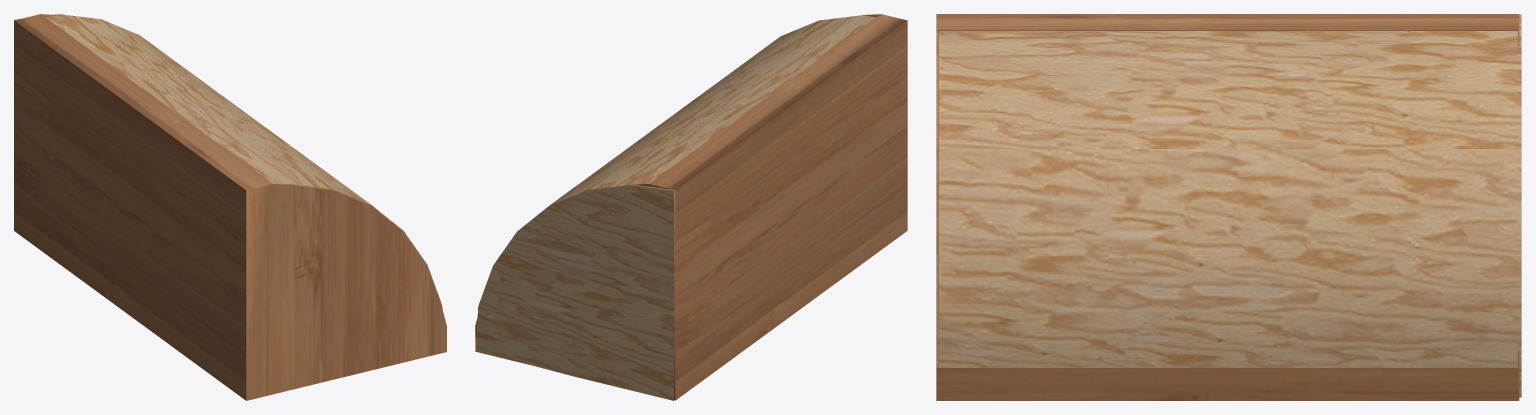
The model's file is Storage01.FBX.
3 renders of one model, left to right at view 1: azimuth 30°, elevation 25°; view 2: azimuth 150°, elevation 25°; view 3: azimuth 270°, elevation 25°, orthographic. The views are drawn at different scales.
Visible parts, largest first — view 1: Cylinder007, LowPoly001; view 2: Cylinder007, LowPoly001; view 3: LowPoly001, Cylinder007.
Boxes of the visible parts, left/top/right/bottom form: Cylinder007: left=14, top=14, right=446, bottom=400; LowPoly001: left=14, top=14, right=442, bottom=308; Cylinder007: left=475, top=14, right=907, bottom=400; LowPoly001: left=476, top=15, right=876, bottom=400; LowPoly001: left=938, top=14, right=1521, bottom=397; Cylinder007: left=936, top=14, right=1519, bottom=400.
Bounding box in the file's own units: 14.96 × 15 × 30.11.
